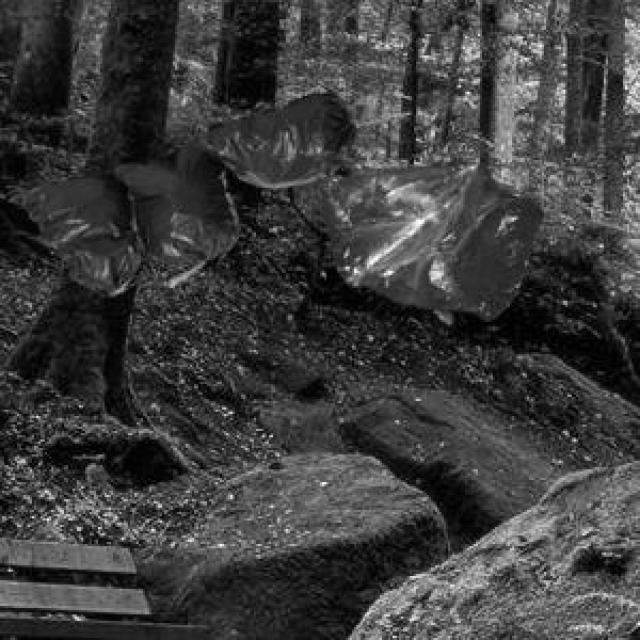miscellaneous trash: (6, 88, 352, 292)
